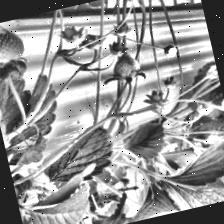Powdery Mildew Fruit: (109, 47, 144, 85), (0, 19, 27, 68)
